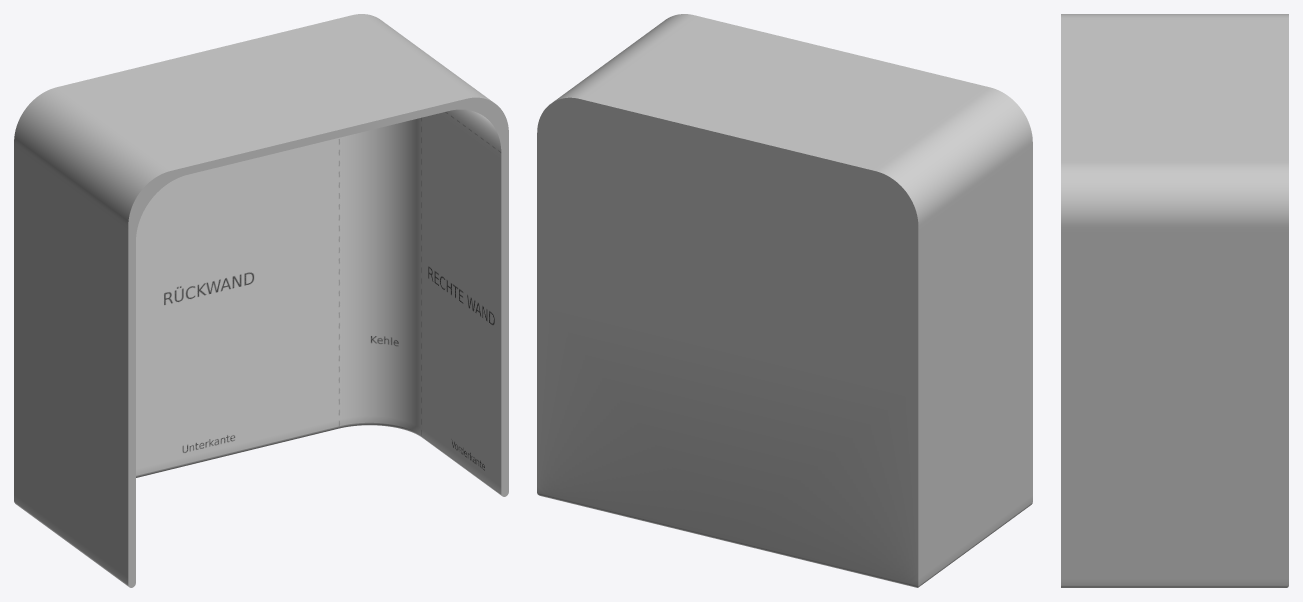
Rendered from 3D_Rendering_3_UV.obj.
3 views of the same model, side by side, from view 1: azimuth 30°, elevation 25°; view 2: azimuth 150°, elevation 25°; view 3: azimuth 270°, elevation 25° (orthographic).
Visible parts, largest first — view 1: 3D_Rendering2_ohne_schwarze_striche; view 2: 3D_Rendering2_ohne_schwarze_striche; view 3: 3D_Rendering2_ohne_schwarze_striche.
Boxes of the visible parts, bbox=[...] form: 3D_Rendering2_ohne_schwarze_striche: bbox=[14, 14, 508, 587]; 3D_Rendering2_ohne_schwarze_striche: bbox=[537, 14, 1032, 587]; 3D_Rendering2_ohne_schwarze_striche: bbox=[1061, 14, 1288, 587].
Size of the model in its own units: 6 by 6.14 by 3.12.
Materials: 2 (1 with a texture image).
